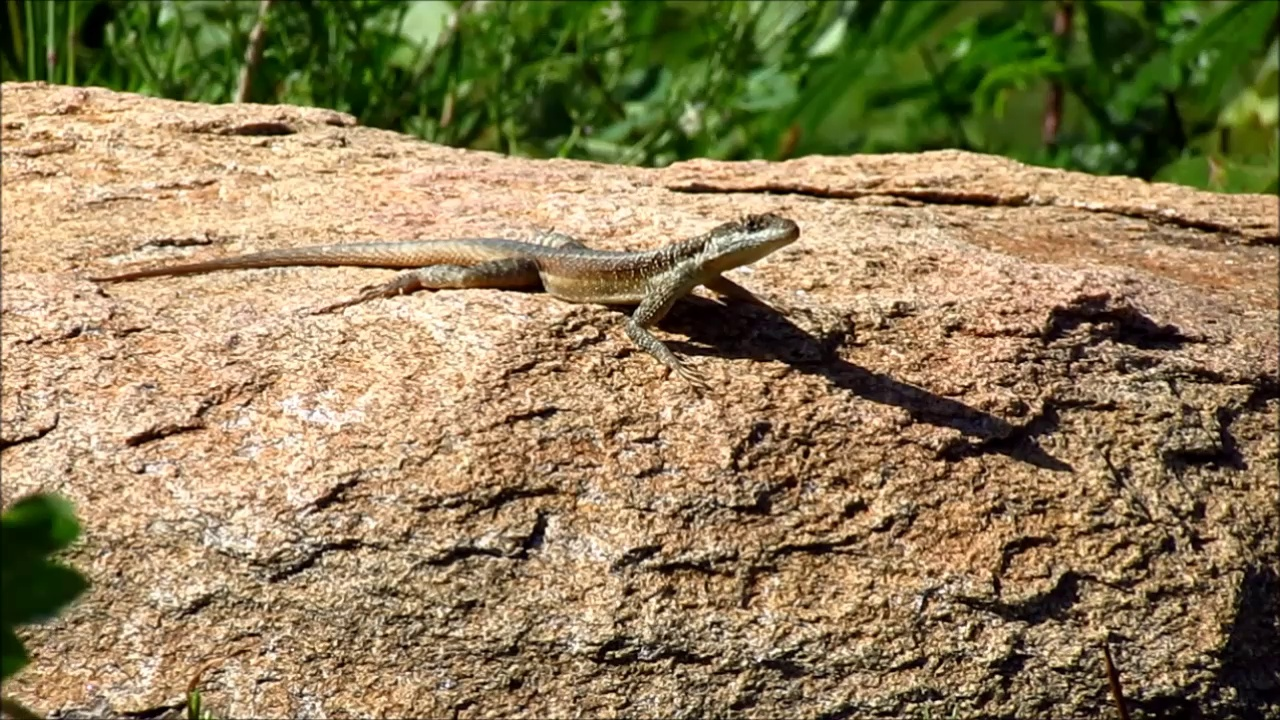body: (87, 223, 710, 391)
head: (702, 211, 800, 264)
